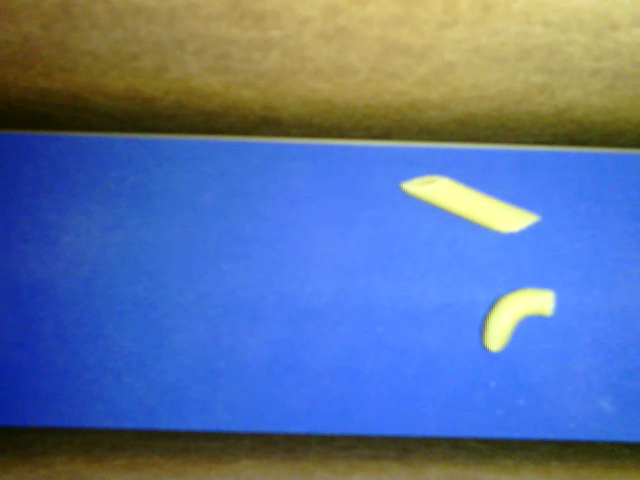elbow: (481, 287, 555, 351)
penne: (400, 175, 542, 235)
